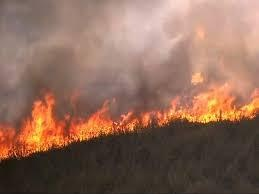fire: (0, 74, 249, 154)
